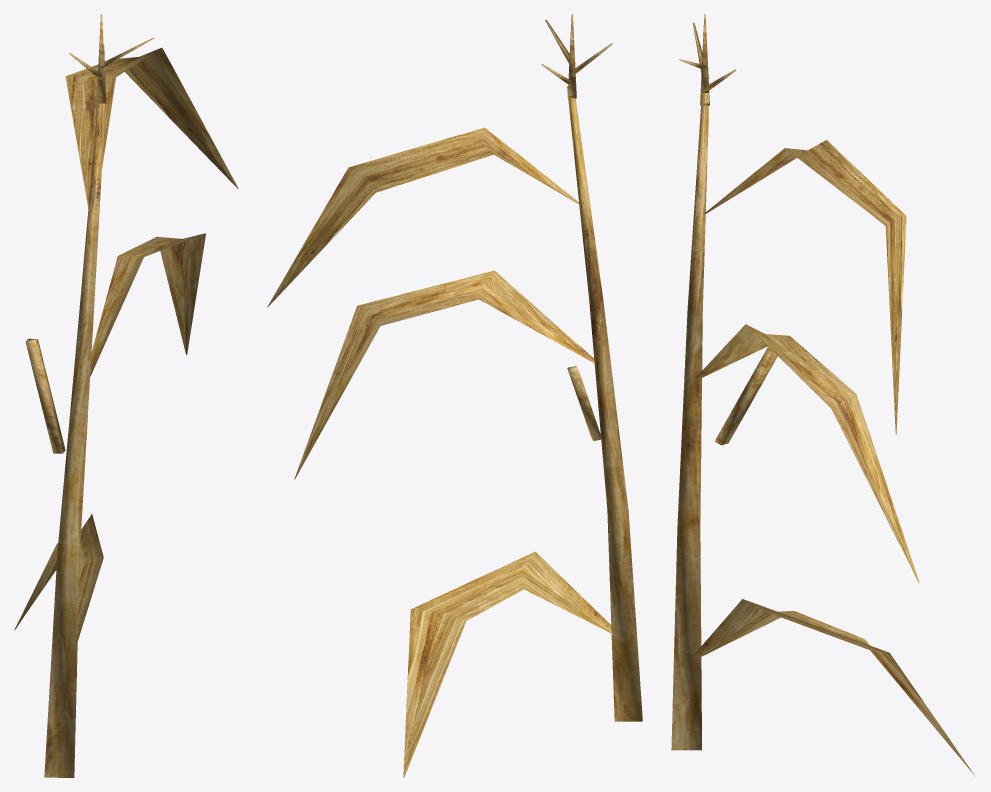
File: Corn_B_Far.glb
3 renders of one model, left to right at view 1: azimuth 30°, elevation 25°; view 2: azimuth 150°, elevation 25°; view 3: azimuth 270°, elevation 25°, orthographic. The views are drawn at different scales.
Parts seen in each view (by area): view 1: Corn_B_Far; view 2: Corn_B_Far; view 3: Corn_B_Far.
Boxes of the visible parts, x1,y1,x2,y2 form: Corn_B_Far: (14,14,238,777); Corn_B_Far: (267,14,642,777); Corn_B_Far: (671,14,975,776).
Size of the model in its own units: 3.35 by 8 by 2.92.
Materials: 1 (1 with a texture image).
